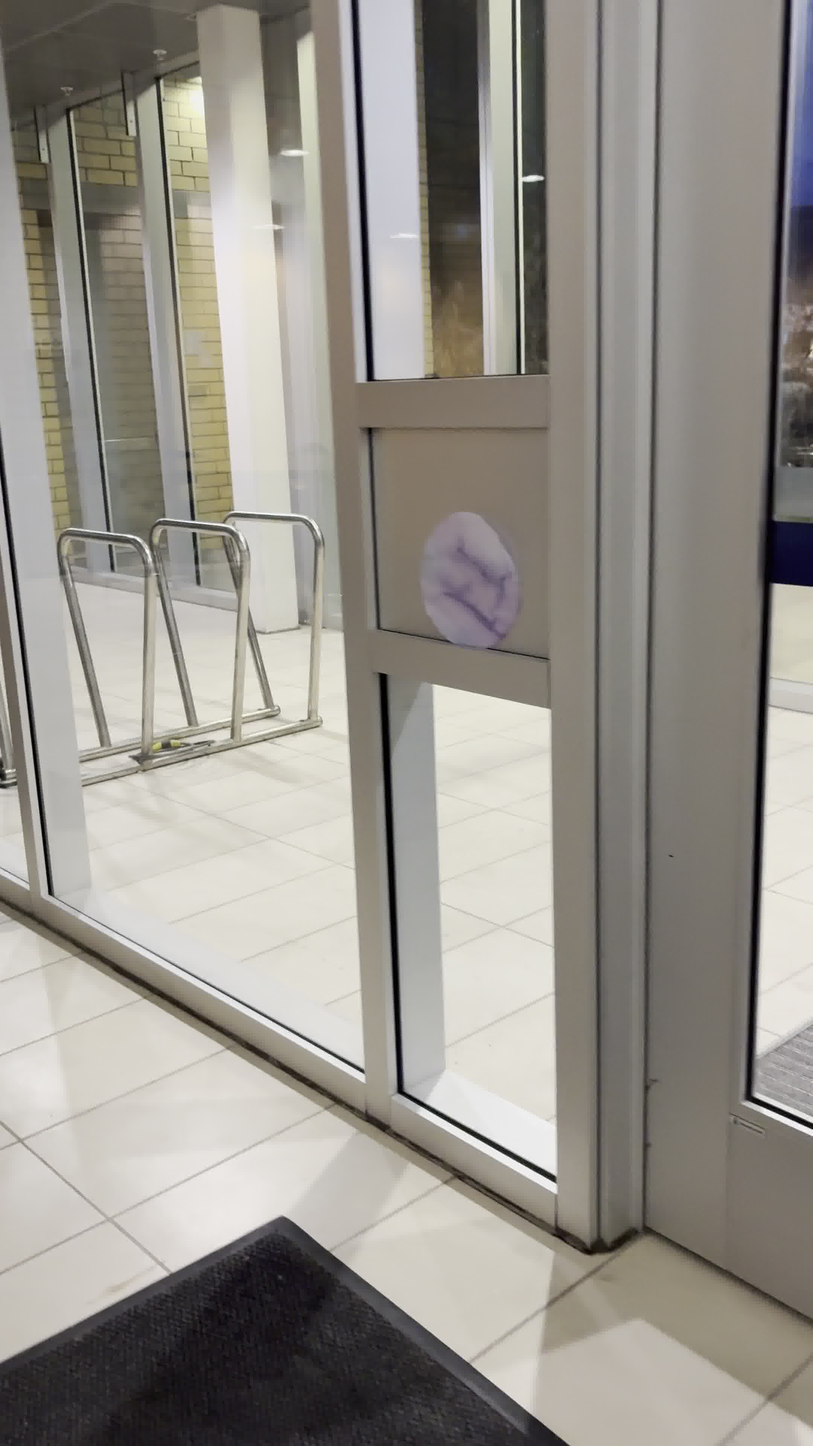Target: (410, 504, 527, 655)
